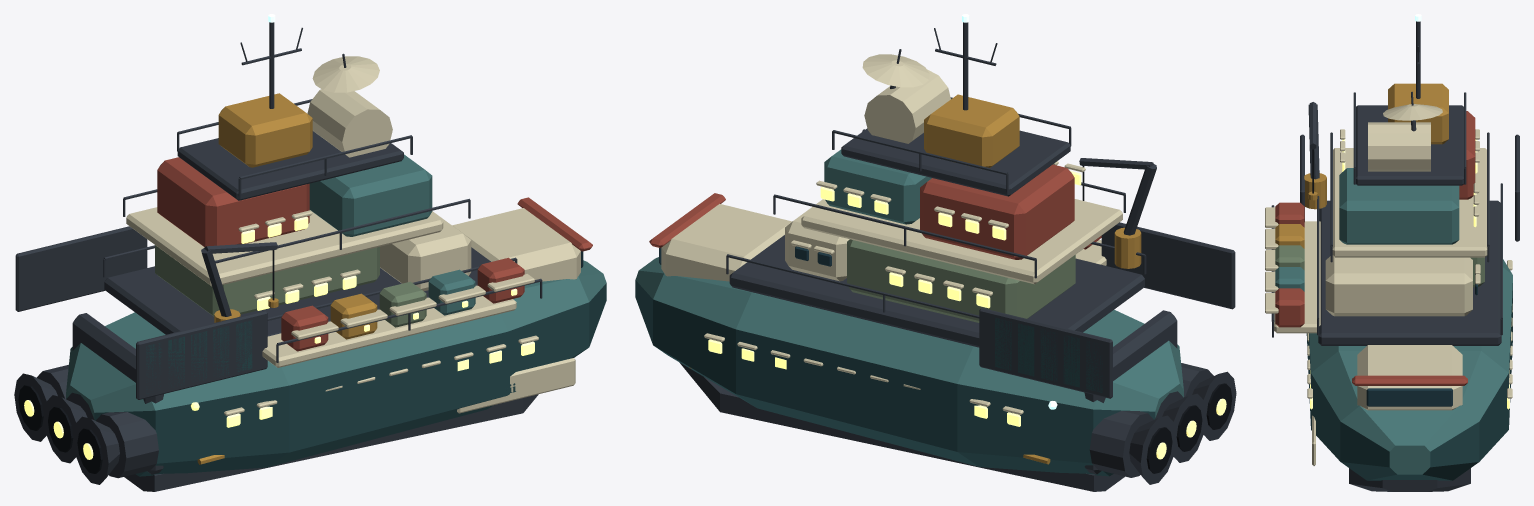
Rendered from wandering-ward.glb.
The picture shows the model from 3 angles, left to right: view 1: azimuth 30°, elevation 25°; view 2: azimuth 150°, elevation 25°; view 3: azimuth 270°, elevation 25°; orthographic projection. The views are drawn at different scales.
Visible parts, largest first — view 1: old ferry pressure hull, middle terrace, folding radiator, residential block a, folding radiator.001, residential block b, roof commons, lower civic deck, school and clinic, forward bridge, water and heat house, public market deck (+23 smaller); view 2: old ferry pressure hull, lower civic deck, residential block a, school and clinic, middle terrace, folding radiator.001, roof commons, folding radiator, forward bridge, water and heat house, residential block b, reinforced lower keel (+21 smaller); view 3: old ferry pressure hull, old ferry saloon, lower civic deck, residential block b, middle terrace, forward bridge, roof commons, municipal water tank, water and heat house, public market deck, forward glazing, reinforced lower keel (+18 smaller).
Part boxes in pixels (x1,y1,x2,y2): old ferry pressure hull: (66, 260, 606, 476); middle terrace: (126, 207, 443, 286); folding radiator: (136, 310, 267, 399); residential block a: (157, 157, 309, 246); folding radiator.001: (15, 226, 147, 311); residential block b: (309, 154, 432, 236); roof commons: (177, 131, 403, 200); lower civic deck: (104, 247, 490, 336); school and clinic: (155, 245, 379, 316); forward bridge: (452, 208, 580, 281); water and heat house: (218, 93, 312, 167); public market deck: (262, 285, 516, 367); old ferry pressure hull: (635, 257, 1183, 476); lower civic deck: (729, 235, 1144, 347); residential block a: (920, 164, 1074, 259); school and clinic: (847, 239, 1075, 322); middle terrace: (801, 199, 1122, 284); folding radiator.001: (979, 308, 1112, 398); roof commons: (841, 128, 1070, 196); folding radiator: (1101, 222, 1235, 309); forward bridge: (661, 204, 791, 281); water and heat house: (924, 94, 1019, 167); residential block b: (824, 149, 931, 224); reinforced lower keel: (679, 362, 1124, 491); old ferry pressure hull: (1306, 259, 1512, 480); old ferry saloon: (1325, 256, 1472, 316); lower civic deck: (1318, 200, 1501, 345); residential block b: (1339, 168, 1459, 244); middle terrace: (1332, 148, 1487, 257); forward bridge: (1357, 345, 1462, 410); roof commons: (1356, 105, 1463, 185); municipal water tank: (1368, 122, 1430, 171); water and heat house: (1388, 83, 1448, 144); public market deck: (1274, 221, 1320, 333); forward glazing: (1366, 388, 1452, 406); reinforced lower keel: (1349, 468, 1470, 491).
Bounding box in the file's own units: 13.15 × 10.05 × 6.05.
